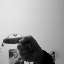g: (2, 33, 44, 64)
